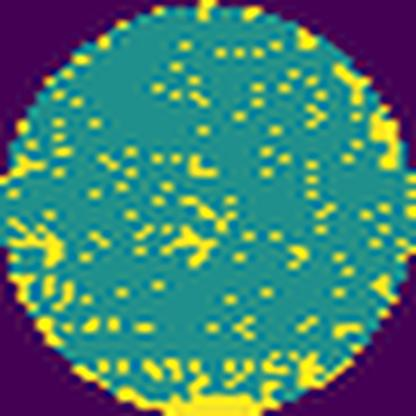Edge-Loc: (115, 378, 284, 416), (360, 106, 406, 174), (337, 61, 372, 100)
